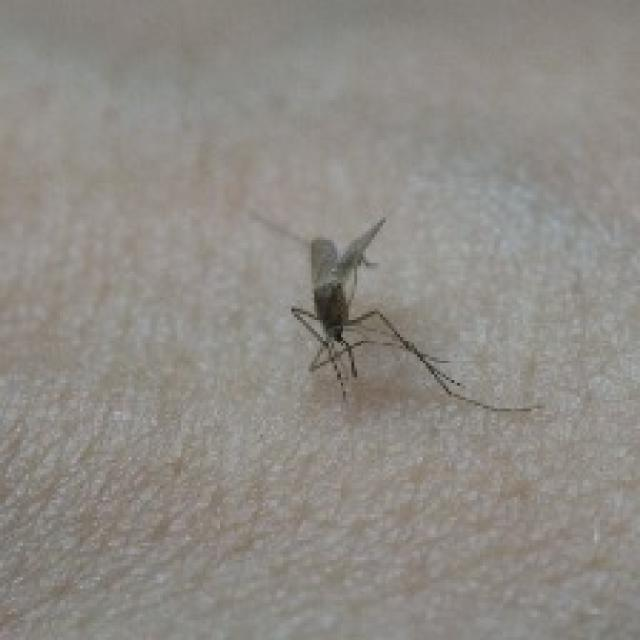culex: (246, 206, 543, 414)
